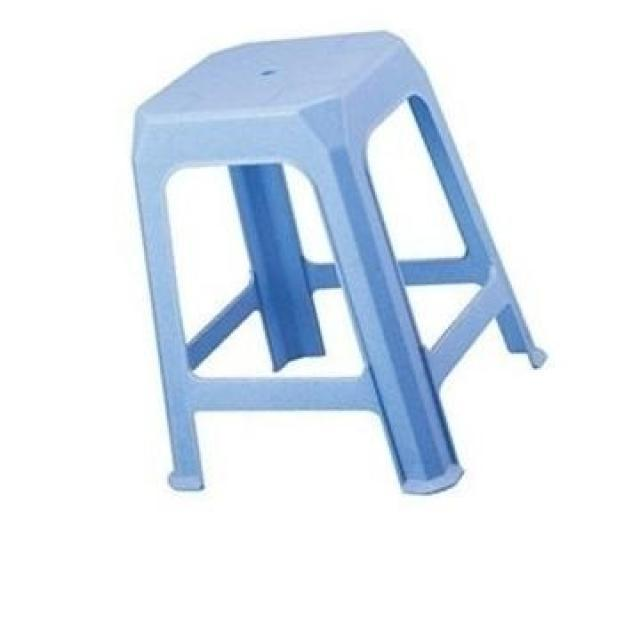chair: (126, 28, 550, 498)
